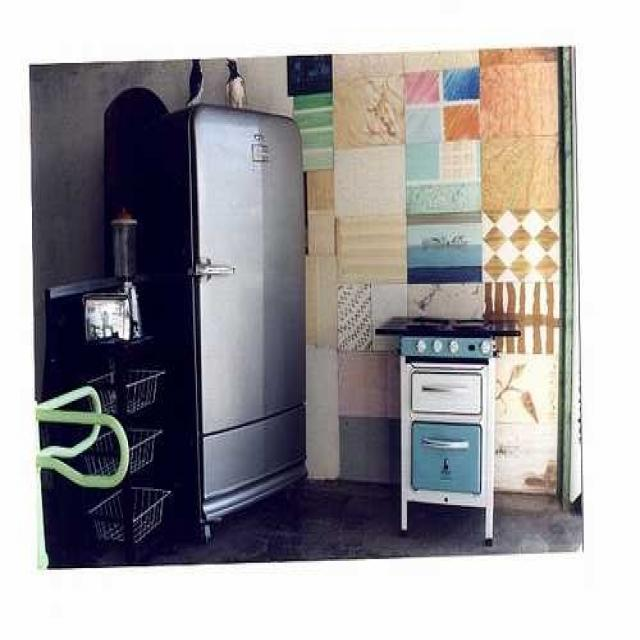refrigerator: (109, 97, 308, 545)
